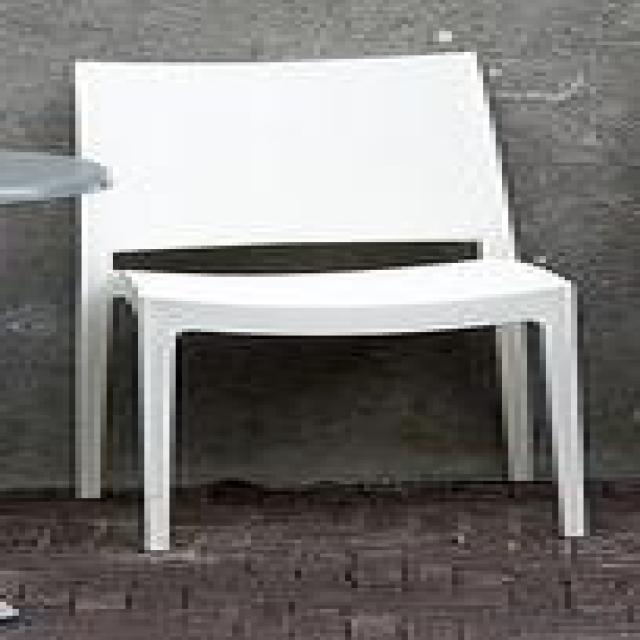chair: (63, 48, 590, 550)
